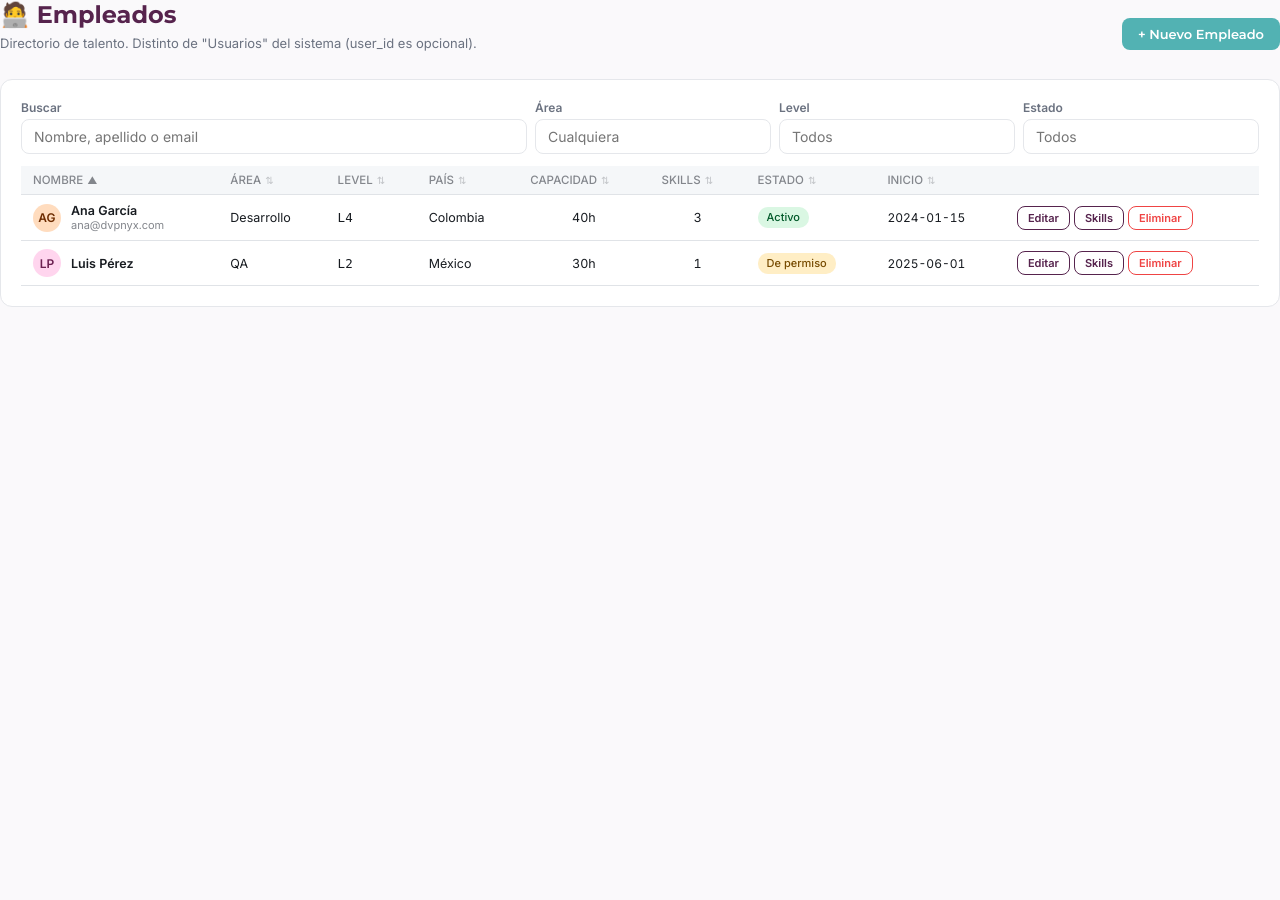
Scenario: Employees module › EE-3 skills modal › opens the skills modal and shows assigned skills
Expected: the link "Ana García" is shown, [71,203,137,218]
Click the button with aria-label "Skills Ana García": (1099, 218) [1074,206,1124,230]
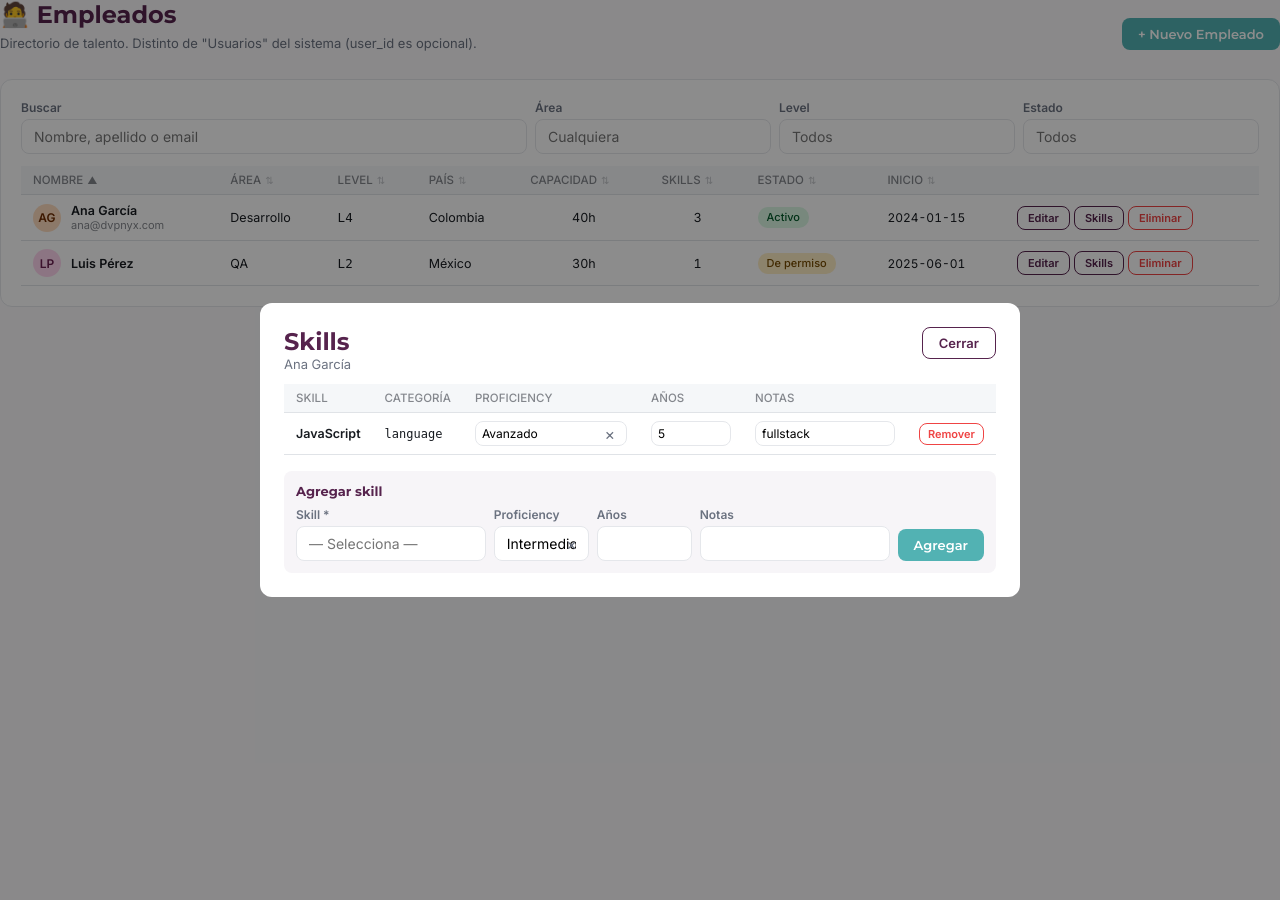
Expected: the text "JavaScript" is shown, [284,412,373,454]
Expected: the dropdown named "Proficiency JavaScript" holds "Avanzado", [475,421,627,446]
